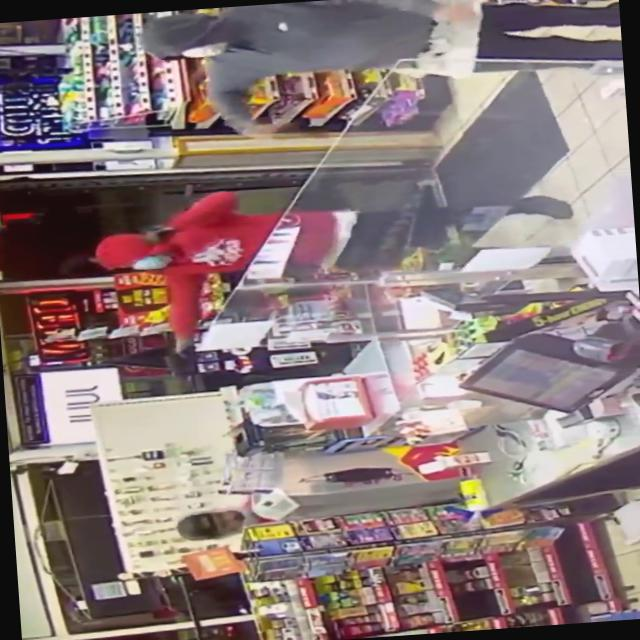handgun: (156, 339, 208, 382)
